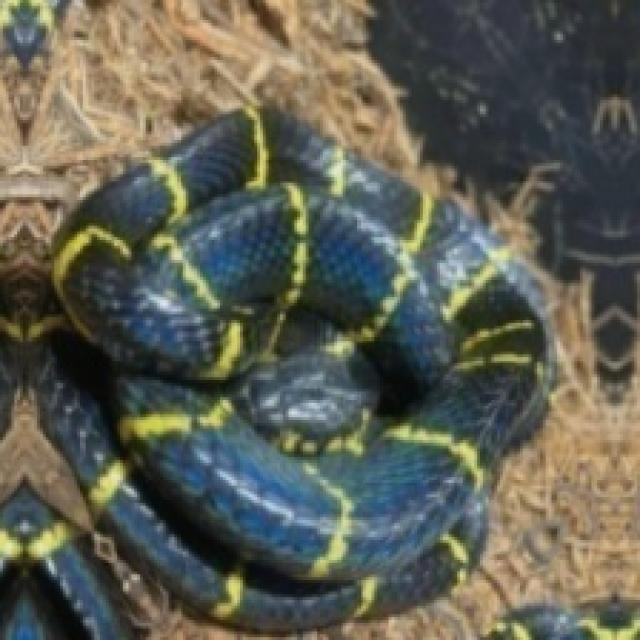mangrove cat snake: (0, 106, 551, 637)
